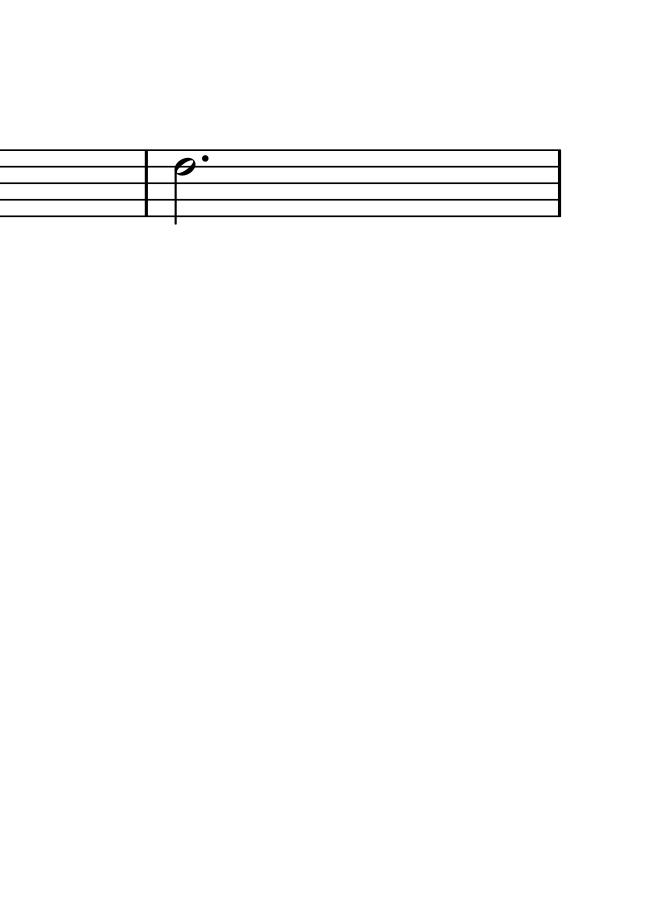2_6: (172, 147, 199, 225)
Single_barline: (137, 149, 154, 218), (551, 148, 568, 216)
dot: (199, 149, 213, 169), (200, 152, 211, 162)
